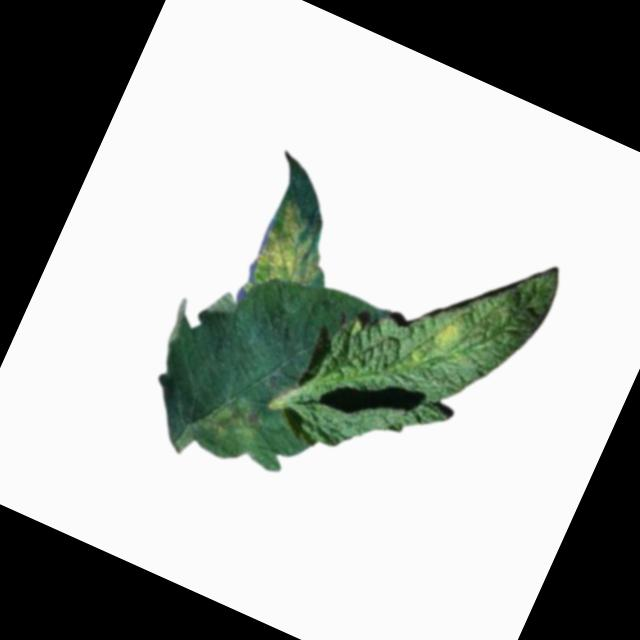Leaf_Mold: (240, 191, 344, 311), (179, 378, 287, 476), (427, 312, 471, 356)
